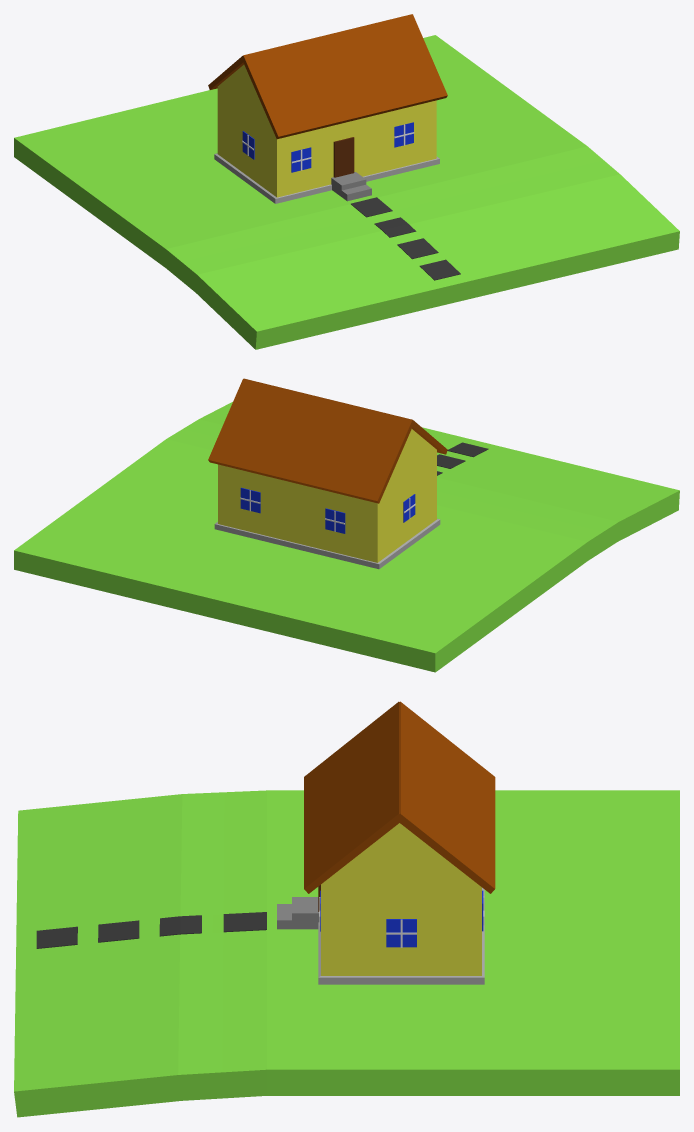
Rendered from Low_poly_house_3ad967eb.glb.
3 renders of one model, top to bottom at view 1: azimuth 30°, elevation 25°; view 2: azimuth 150°, elevation 25°; view 3: azimuth 270°, elevation 25°, orthographic. The views are drawn at different scales.
Parts seen in each view (by area): view 1: Cube.004_Material.005_0, Cube.004_Material.006_0, Cube.004_Material.008_0, Cube.004_Material.004_0, Cube.004_Material.007_0, Cube.004_Material.009_0, Cube.004_Material.010_0; view 2: Cube.004_Material.005_0, Cube.004_Material.006_0, Cube.004_Material.008_0, Cube.004_Material.007_0, Cube.004_Material.004_0; view 3: Cube.004_Material.005_0, Cube.004_Material.006_0, Cube.004_Material.008_0, Cube.004_Material.004_0, Cube.004_Material.007_0, Cube.004_Material.009_0, Cube.004_Material.016_0.
Part boxes in pixels (x1,y1,x2,y2): Cube.004_Material.005_0: (14, 35, 679, 349); Cube.004_Material.006_0: (208, 14, 447, 139); Cube.004_Material.008_0: (217, 64, 436, 197); Cube.004_Material.004_0: (351, 197, 460, 280); Cube.004_Material.007_0: (214, 153, 439, 203); Cube.004_Material.009_0: (331, 172, 371, 201); Cube.004_Material.010_0: (333, 137, 354, 177); Cube.004_Material.005_0: (14, 402, 679, 672); Cube.004_Material.006_0: (208, 378, 447, 503); Cube.004_Material.008_0: (218, 429, 436, 562); Cube.004_Material.007_0: (214, 518, 440, 569); Cube.004_Material.004_0: (437, 442, 488, 475); Cube.004_Material.005_0: (14, 790, 679, 1117); Cube.004_Material.006_0: (304, 701, 495, 893); Cube.004_Material.008_0: (321, 823, 481, 975); Cube.004_Material.004_0: (36, 912, 266, 948); Cube.004_Material.007_0: (318, 887, 484, 984); Cube.004_Material.009_0: (277, 897, 319, 929); Cube.004_Material.016_0: (386, 919, 416, 947).
Bounding box in the file's own units: 18.38 × 6.76 × 18.49.
